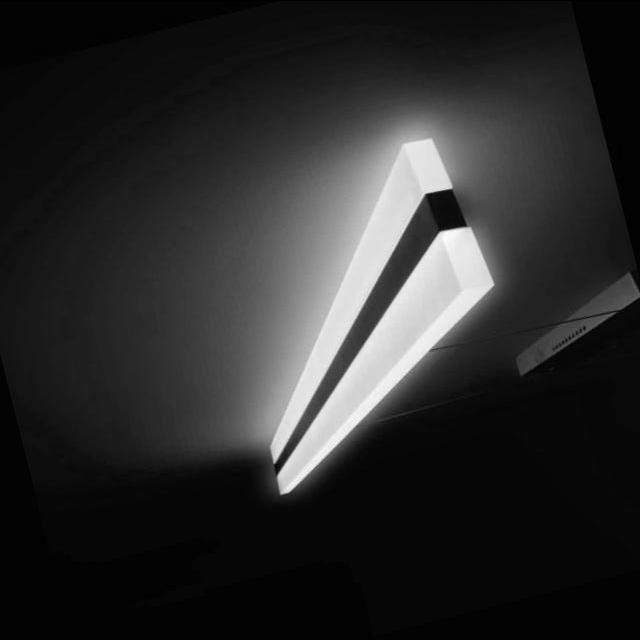light: (267, 137, 496, 496)
